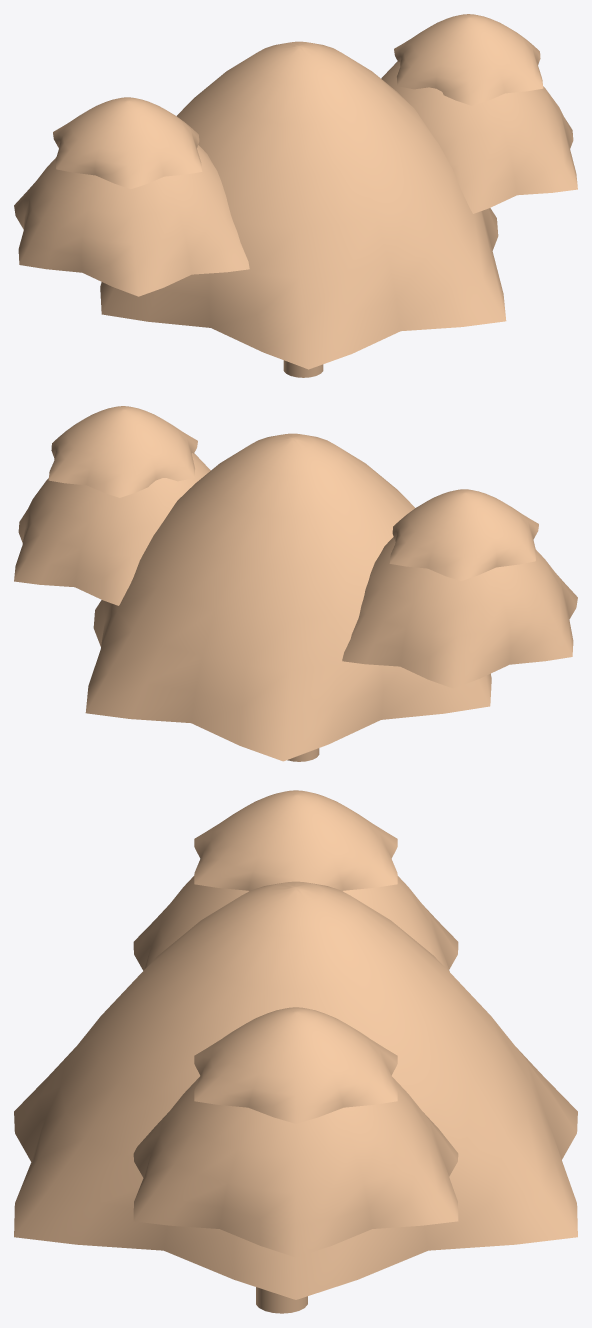
File: arbusto.glb
The picture shows the model from 3 angles, top to bottom: view 1: azimuth 30°, elevation 25°; view 2: azimuth 150°, elevation 25°; view 3: azimuth 270°, elevation 25°; orthographic projection. The views are drawn at different scales.
Visible parts, largest first — view 1: Cone001; view 2: Cone001; view 3: Cone001.
Boxes of the visible parts, <box> form: Cone001: <box>14,14,577,377</box>; Cone001: <box>14,406,577,761</box>; Cone001: <box>14,790,577,1313</box>.
Bounding box in the file's own units: 0.2379 × 0.131 × 0.1611.
